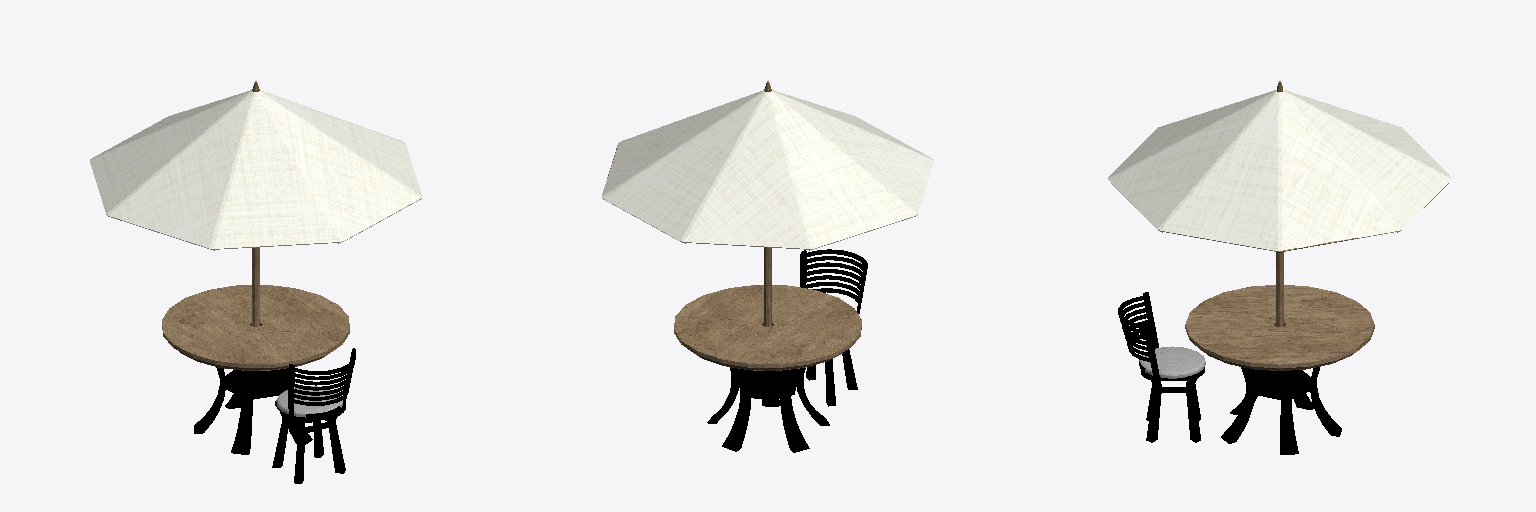
3 views of the same model, side by side, from view 1: azimuth 30°, elevation 25°; view 2: azimuth 150°, elevation 25°; view 3: azimuth 270°, elevation 25° (orthographic).
Parts seen in each view (by area): view 1: pCylinder10; view 2: pCylinder10; view 3: pCylinder10.
Part boxes in pixels (x1,y1,x2,y2): pCylinder10: (90,81,421,483); pCylinder10: (602,81,933,452); pCylinder10: (1108,81,1451,454).
Size of the model in its own units: 18.87 by 21.12 by 18.87.
3 materials, 3 textured.